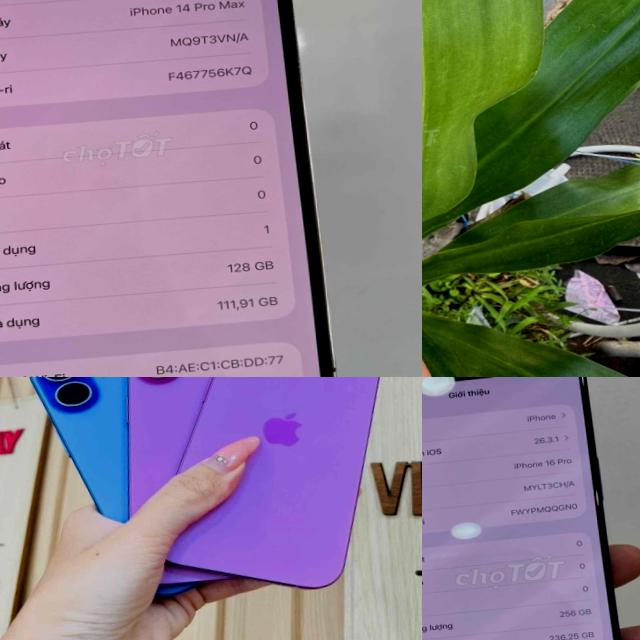gen_14: (0, 0, 347, 377)
gen_16: (150, 377, 394, 609), (422, 377, 616, 640)
